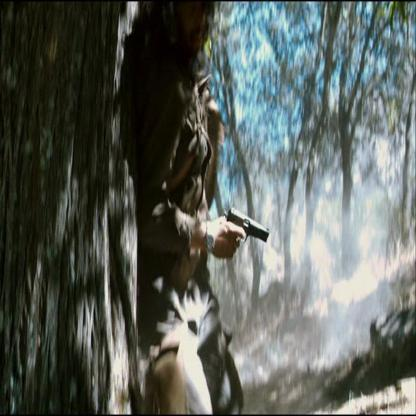gun: (228, 203, 274, 257)
